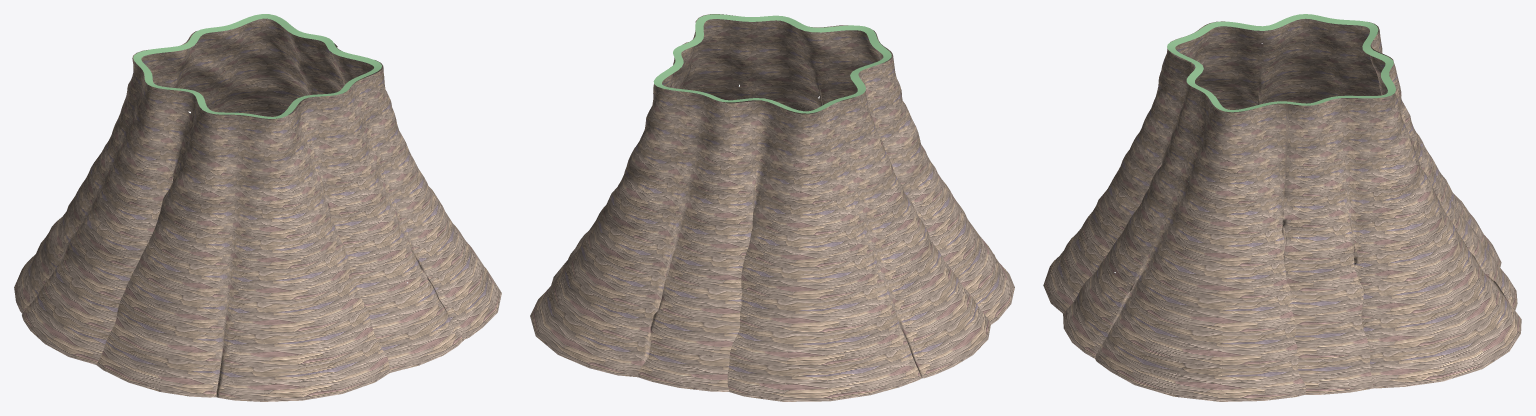
File: CliffWall_stack_02.glb
3 views of the same model, side by side, from view 1: azimuth 30°, elevation 25°; view 2: azimuth 150°, elevation 25°; view 3: azimuth 270°, elevation 25° (orthographic). The views are drawn at different scales.
Parts seen in each view (by area): view 1: CliffWall_stack_02-rock0, CliffWall_stack_02-lip0; view 2: CliffWall_stack_02-rock0, CliffWall_stack_02-lip0; view 3: CliffWall_stack_02-rock0, CliffWall_stack_02-lip0.
Part boxes in pixels (x1,y1,x2,y2): CliffWall_stack_02-rock0: [14, 18, 501, 401]; CliffWall_stack_02-lip0: [133, 14, 382, 118]; CliffWall_stack_02-rock0: [530, 14, 1014, 401]; CliffWall_stack_02-lip0: [653, 14, 891, 113]; CliffWall_stack_02-rock0: [1043, 18, 1521, 401]; CliffWall_stack_02-lip0: [1167, 14, 1395, 112].
Bounding box in the file's own units: 508 × 278 × 507.
Materials: 4 (1 with a texture image).
